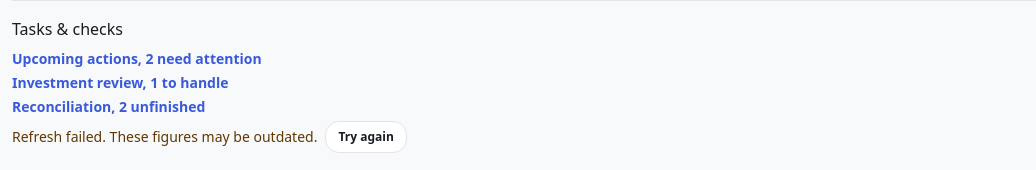
Test: Tasks home summary › keeps cached counts and retries only the source whose refresh failed
This screenshot has width=1036, height=170.
Expected: the button "Upcoming actions, 2 need attention" is shown, [12,49,262,69]
Expected: the button "Investment review, 1 to handle" is shown, [12,73,228,93]
Step 1. Click the button "Try again" → [366, 137], box [325,121,407,153]
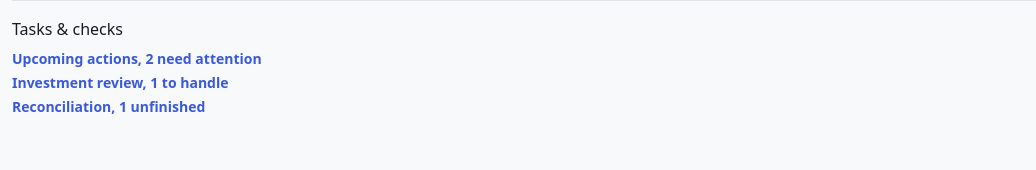
Expected: the button "Reconciliation, 1 unfinished" is shown, [12,97,205,117]
Expected: the text "Refresh failed. These figures may be outdated." is gone
